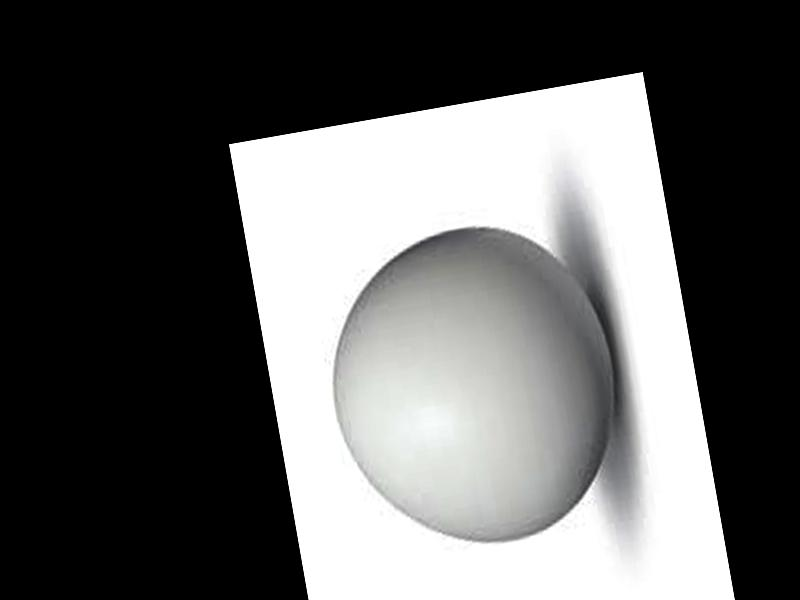Eggs: (307, 212, 637, 565)
